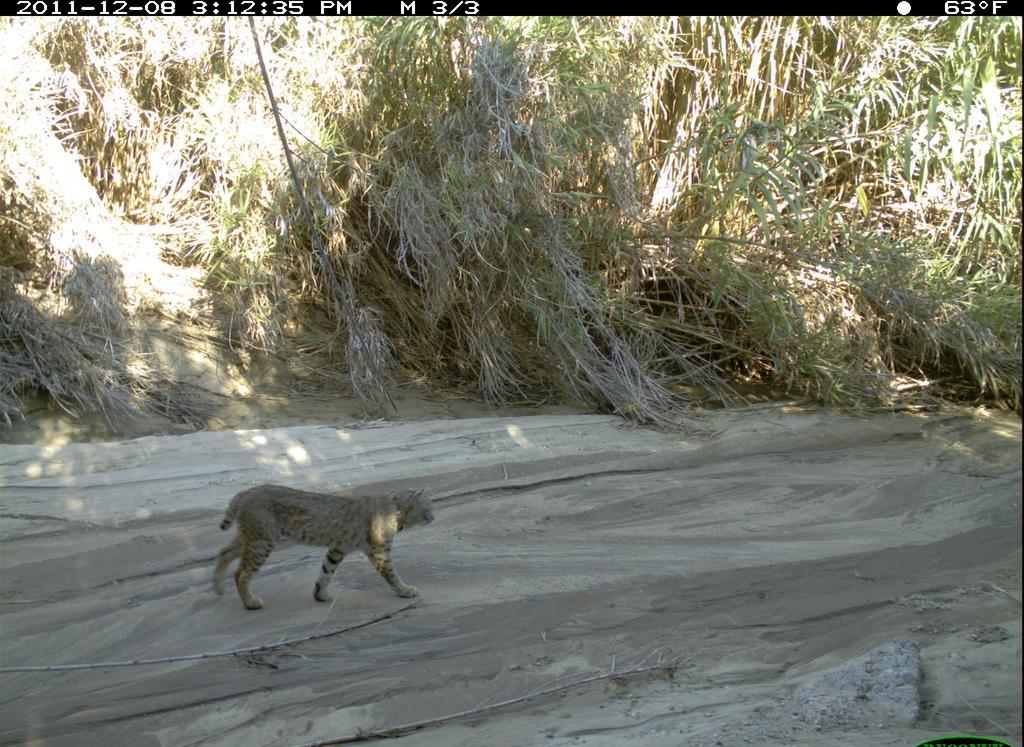bobcat: (203, 481, 442, 614)
